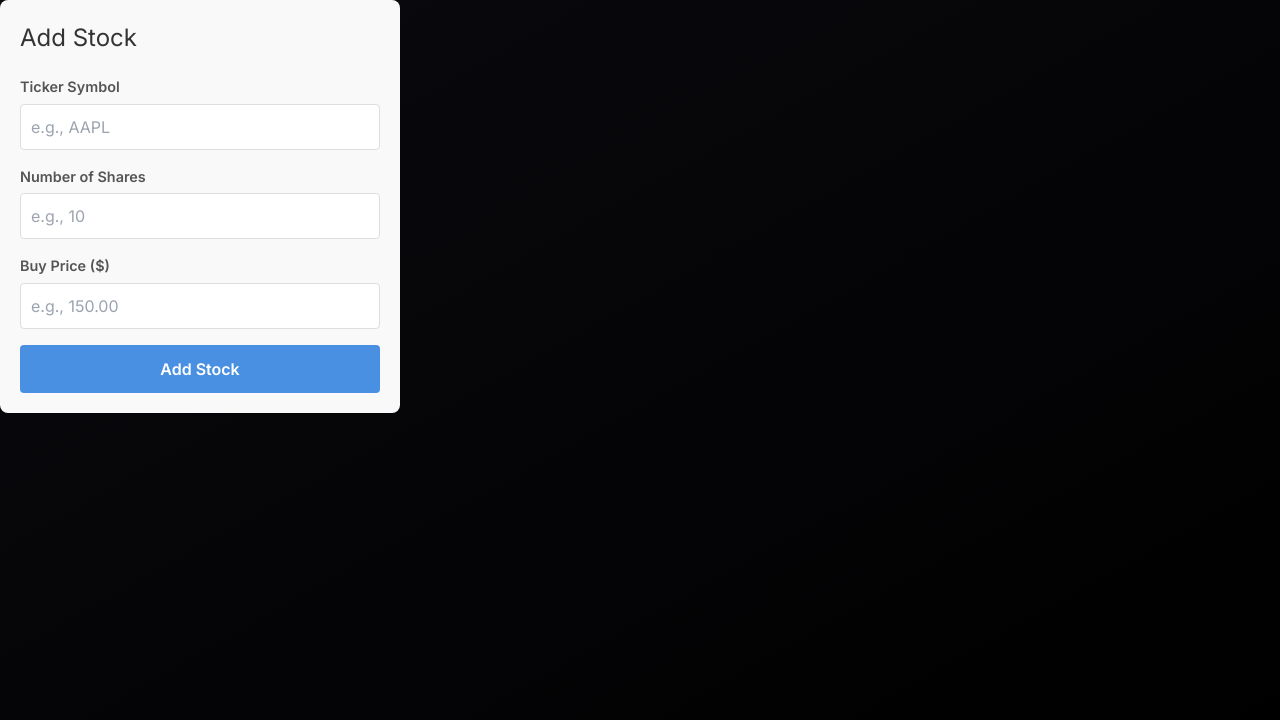
AddStockForm › Validation - Empty Fields (Requirement 4.1) › should show error when buy price is empty
Type "AAPL" into the field labelled "Ticker Symbol" at (200, 127), box [20,104,380,150]
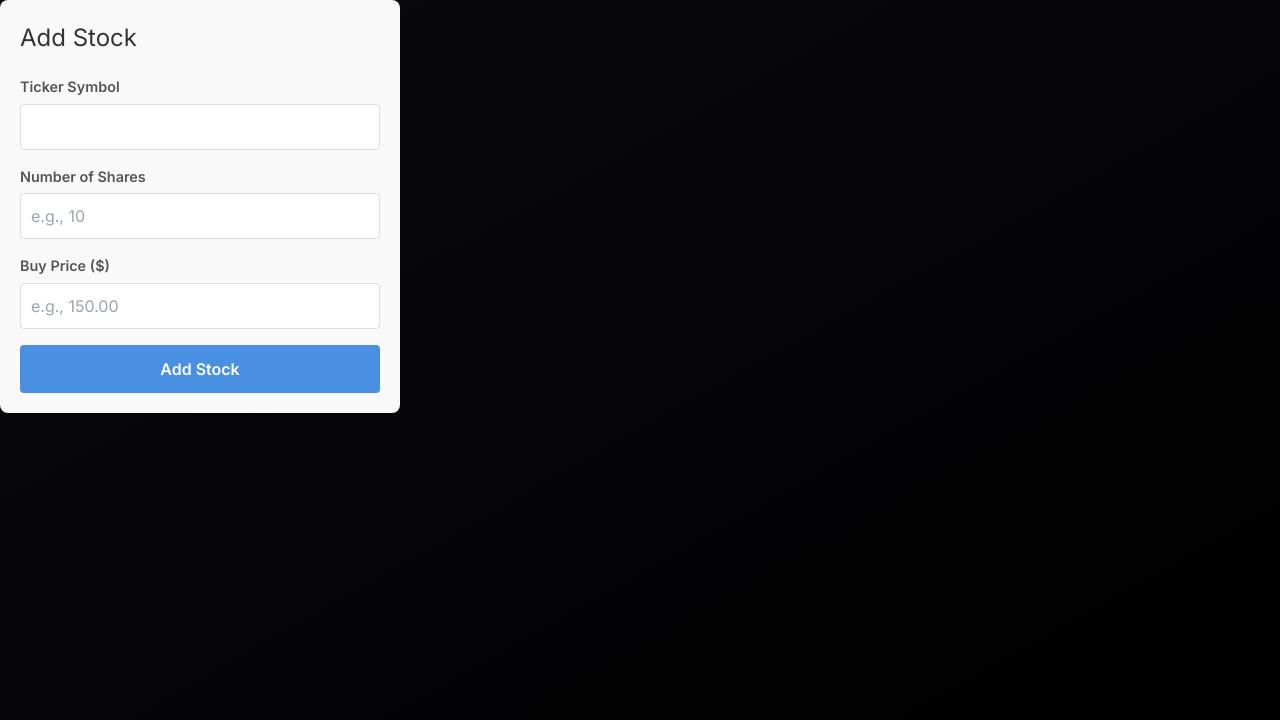
Type "10" into the number field labelled "Number of Shares" at (200, 216), box [20,193,380,239]
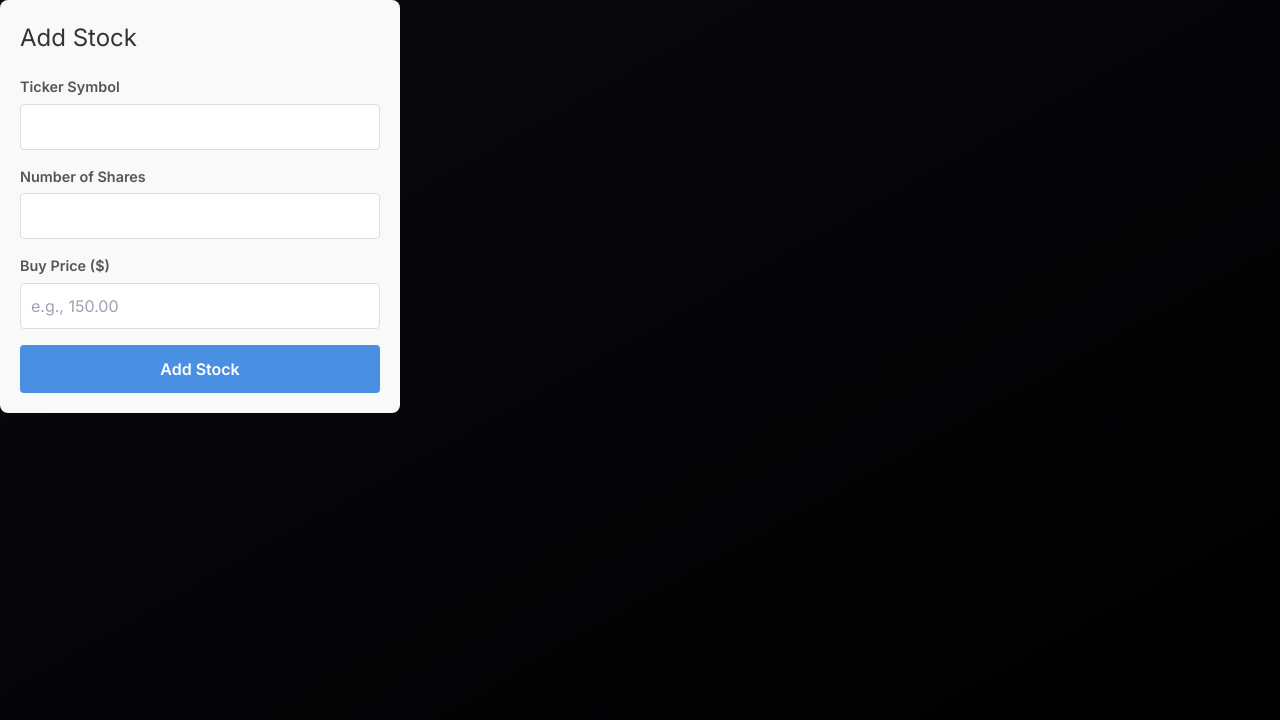
Click the button "Add Stock" at (200, 369), box [20,345,380,393]
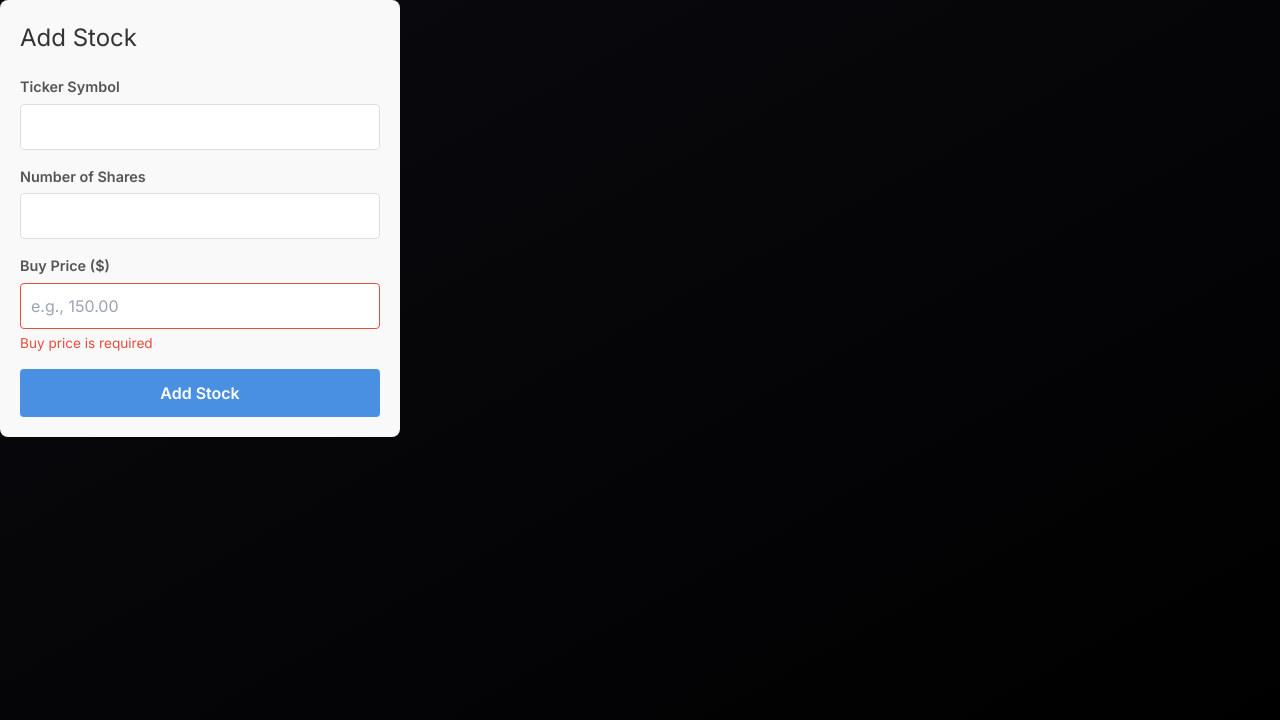
Expected: the text "Buy price is required" is shown, [20,335,153,351]
